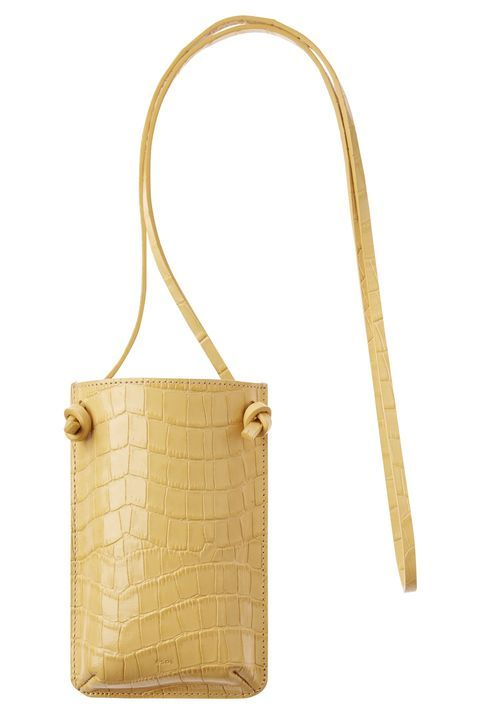cuero: (66, 15, 418, 700)
